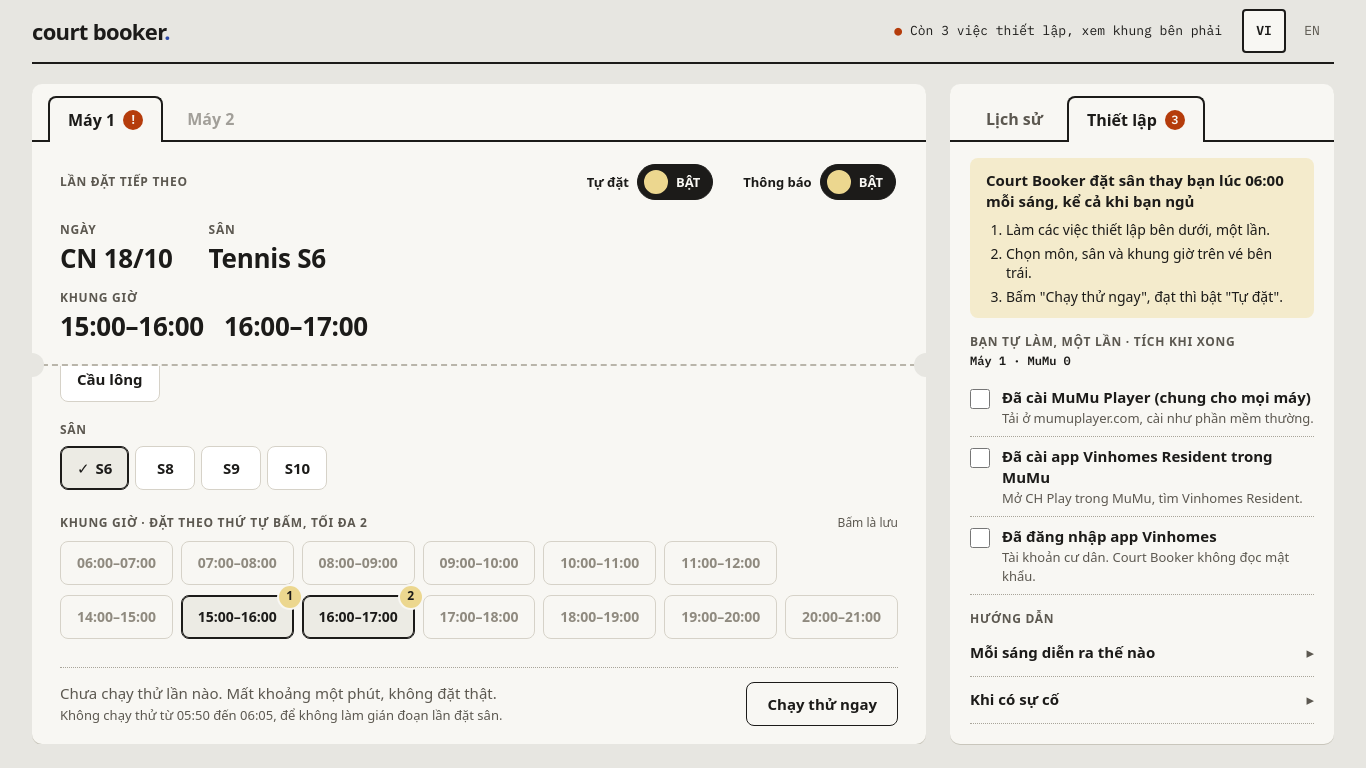
it: BookingTicket choices › says why a third slot is not added, and saves nothing
This screenshot has width=1366, height=768.
(page scrolled)
Click the button "18:00–19:00" at x=600, y=617, box [543, 595, 656, 639]
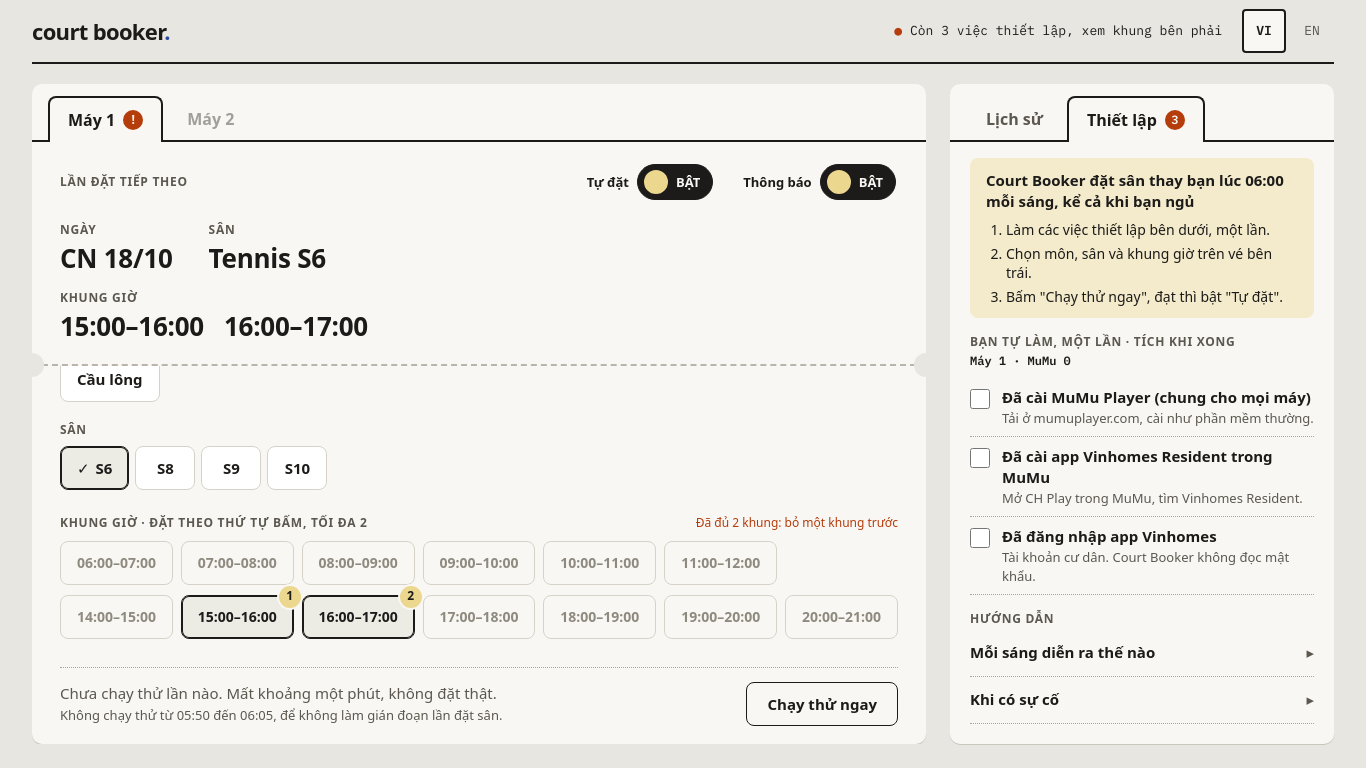
Result: the text "Đã đủ 2 khung: bỏ một khung trước" is shown at [696, 514, 898, 531]
